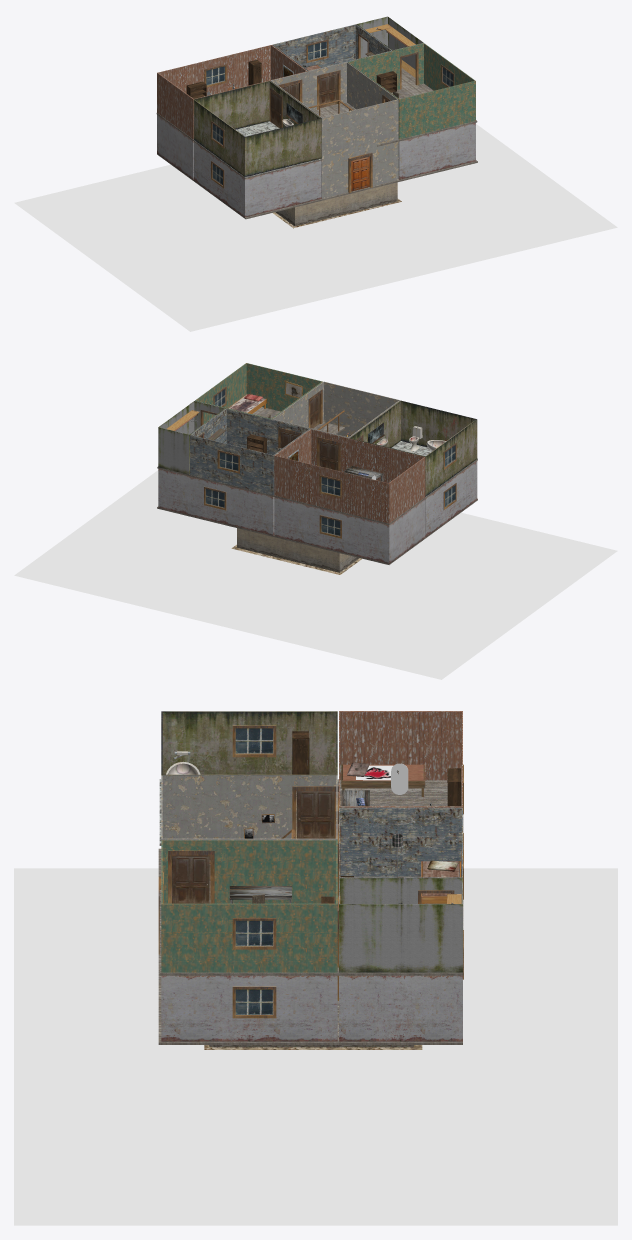
3 renders of one model, top to bottom at view 1: azimuth 30°, elevation 25°; view 2: azimuth 150°, elevation 25°; view 3: azimuth 270°, elevation 25°, orthographic. The views are drawn at different scales.
Visible parts, largest first — view 1: ResetFloor_505, House_124, Golv_123, FurnitureSovrum1_168, FurnitureBedroom2_217, exitdoor_503, Innerdoor_468; view 2: ResetFloor_505, House_124, Golv_123, FurnitureSovrum1_168, FurnitureBedroom2_217, Innerdoor_462; view 3: ResetFloor_505, House_124, Golv_123, FurnitureBedroom2_217, FurnitureSovrum1_168, Innerdoor_464, Innerdoor_466.
Boxes of the visible parts, x1,y1,x2,y2 form: ResetFloor_505: (14,124,617,331); House_124: (157,16,475,226); Golv_123: (156,68,477,228); FurnitureSovrum1_168: (306,24,415,92); FurnitureBedroom2_217: (186,60,302,126); exitdoor_503: (351,156,369,191); Innerdoor_468: (319,73,337,107); ResetFloor_505: (14,470,617,679); House_124: (158,363,477,572); Golv_123: (157,407,477,574); FurnitureSovrum1_168: (166,394,266,453); FurnitureBedroom2_217: (343,422,445,481); Innerdoor_462: (319,440,338,470); ResetFloor_505: (14,868,617,1225); House_124: (158,711,463,1047); Golv_123: (158,779,463,1049); FurnitureBedroom2_217: (166,731,460,806); FurnitureSovrum1_168: (229,860,461,903); Innerdoor_464: (172,855,209,903); Innerdoor_466: (297,791,334,838).
Size of what is drawn, in the model's own units: 75.28 by 23.47 by 53.77.
77 materials, 75 textured.
